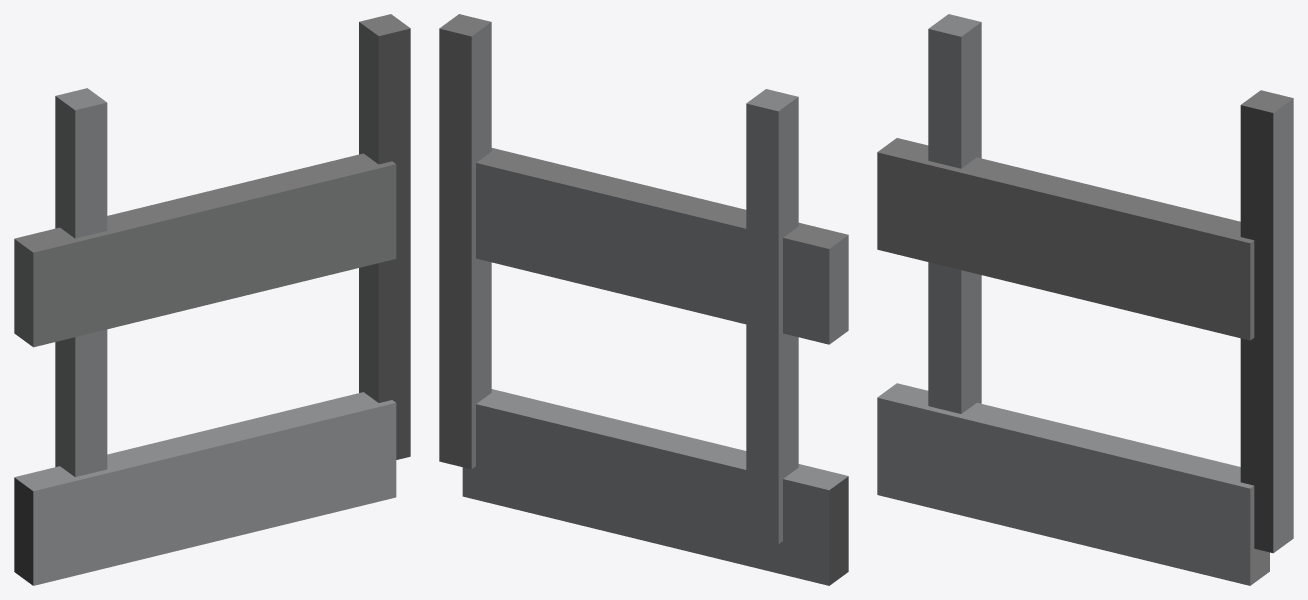
3 views of the same model, side by side, from view 1: azimuth 30°, elevation 25°; view 2: azimuth 150°, elevation 25°; view 3: azimuth 330°, elevation 25° (orthographic). The views are drawn at different scales.
Bounding box in the file's own units: 0.711 × 0.8221 × 0.0766.
